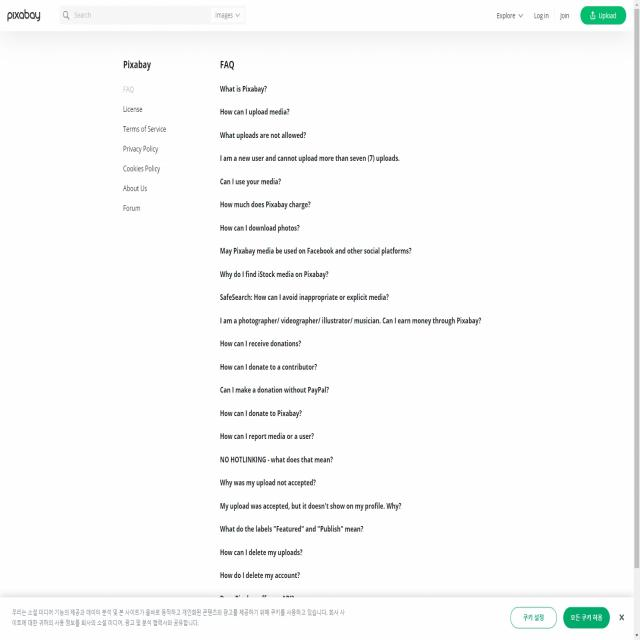content: (113, 54, 181, 216)
menu-bar: (493, 1, 630, 26)
search: (58, 1, 248, 29)
